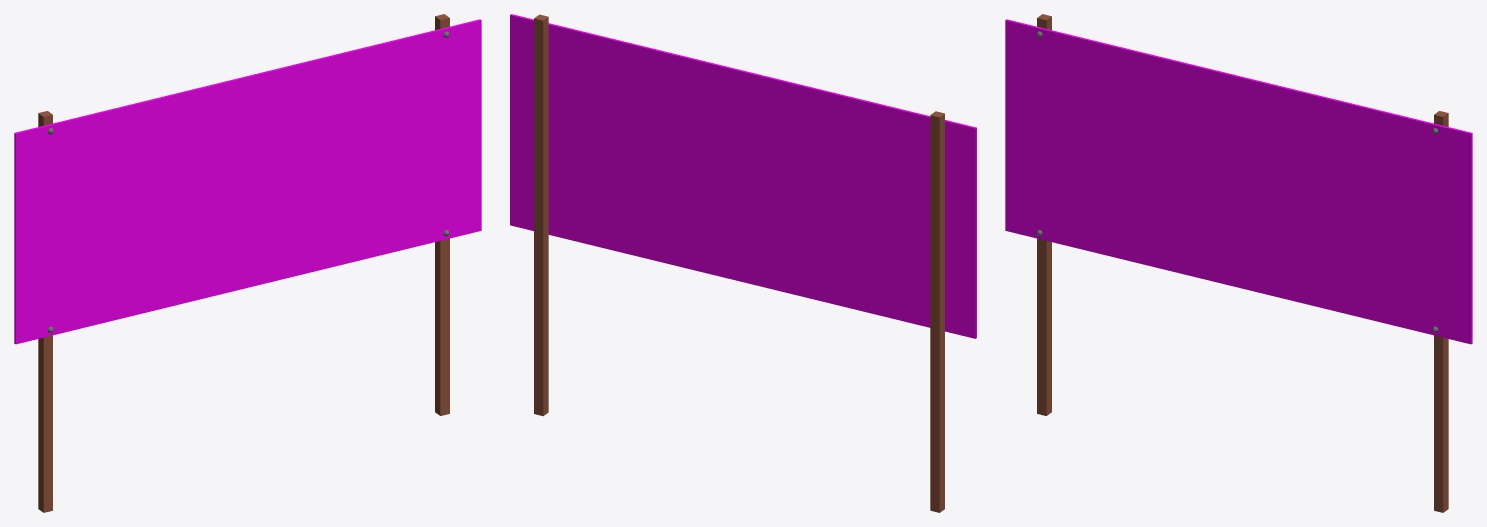
Rendered from sign_big.fbx.
The picture shows the model from 3 angles, left to right: view 1: azimuth 30°, elevation 25°; view 2: azimuth 150°, elevation 25°; view 3: azimuth 330°, elevation 25°; orthographic projection.
Visible parts, largest first — view 1: square_sign, pole, pole1; view 2: square_sign, pole1, pole; view 3: square_sign, pole, pole1.
Boxes of the visible parts, box(x1,y1,x2,y2) form: square_sign: box(14, 19, 481, 344); pole: box(38, 111, 52, 512); pole1: box(435, 14, 449, 415); square_sign: box(510, 14, 976, 338); pole1: box(534, 14, 548, 416); pole: box(930, 111, 944, 512); square_sign: box(1005, 19, 1472, 344); pole: box(1037, 14, 1051, 415); pole1: box(1434, 111, 1448, 512).
Bounding box in the file's own units: 93.32 × 75.76 × 3.19.
